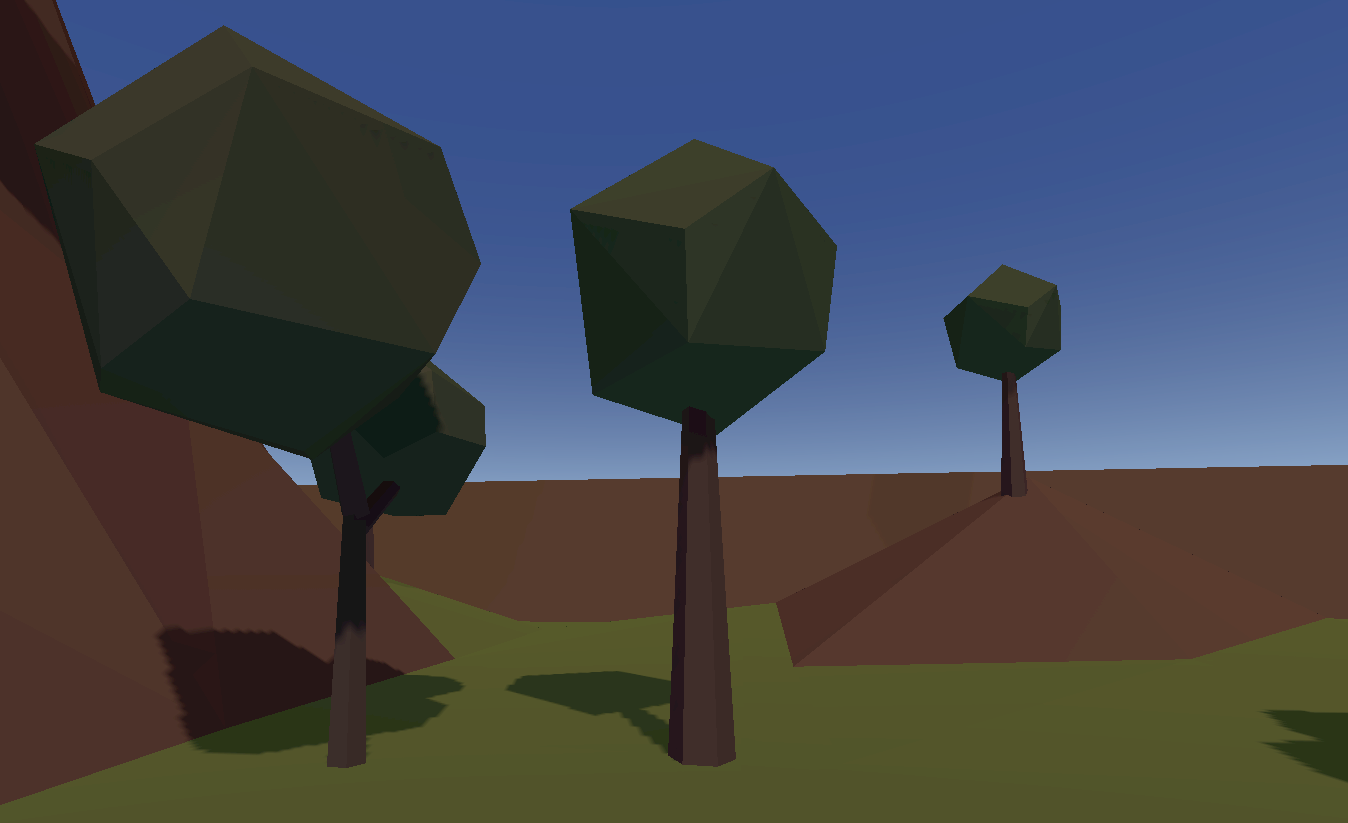tree: (31, 27, 485, 757), (566, 134, 841, 764), (941, 263, 1068, 493)
